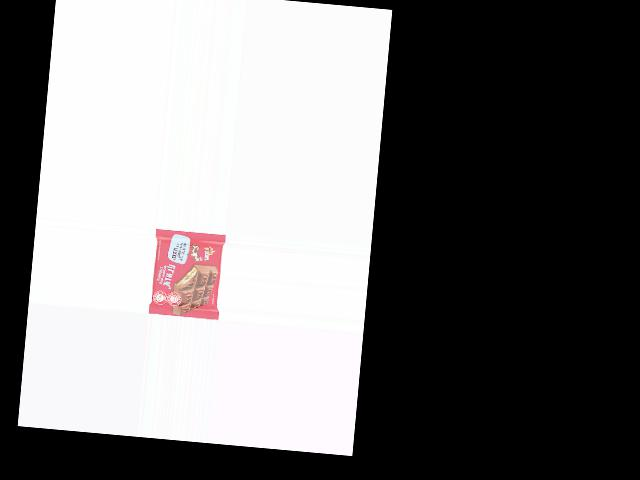chocolate: (147, 231, 224, 318)
